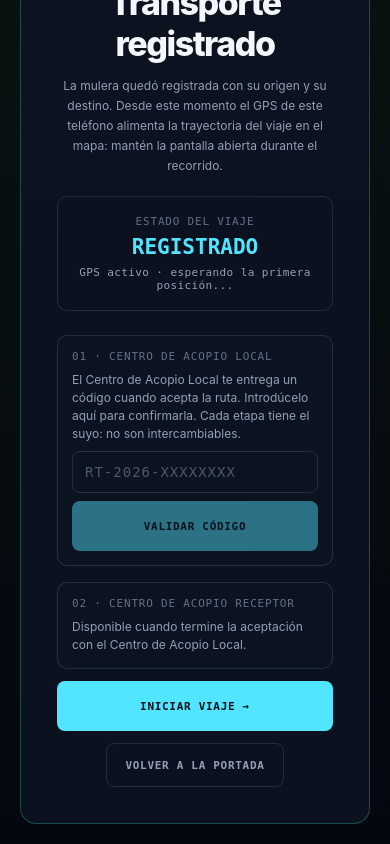
Scenario: si el backend rechaza el hito, el error se muestra y el estado no cambia
(page scrolled)
Click the button with test id "journey-start" at {"x": 195, "y": 706}, box x1=57 y1=681 x2=333 y2=731
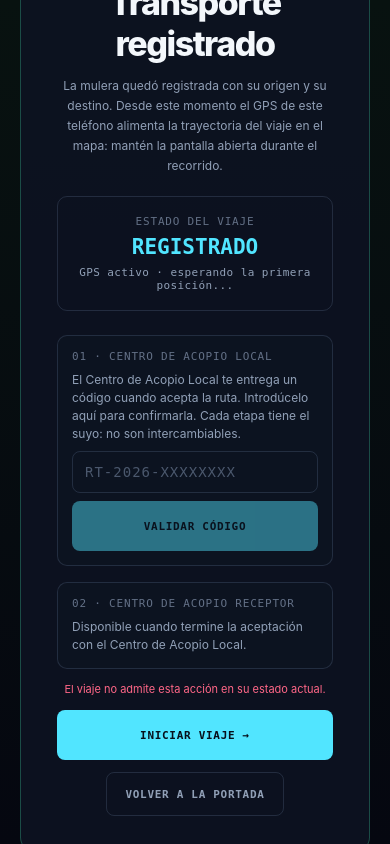
Expected: the text with test id "journey-status" reads "REGISTRADO", x1=132 y1=235 x2=258 y2=259
Expected: the message "El viaje no admite esta acción en su estado actual." is shown, x1=64 y1=681 x2=326 y2=698
